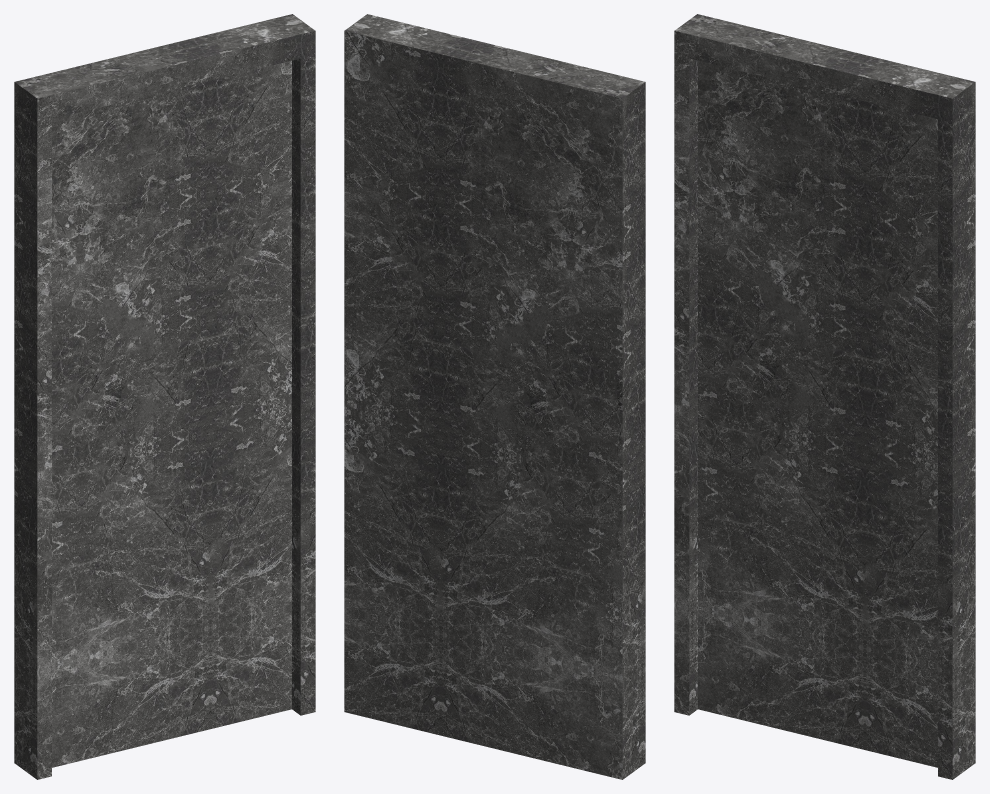
Rendered from door-updated.glb.
3 renders of one model, left to right at view 1: azimuth 30°, elevation 25°; view 2: azimuth 150°, elevation 25°; view 3: azimuth 330°, elevation 25°, orthographic.
Parts seen in each view (by area): view 1: Cube; view 2: Cube; view 3: Cube.
Boxes of the visible parts, x1,y1,x2,y2 form: Cube: (14, 14, 315, 779); Cube: (344, 14, 645, 779); Cube: (674, 14, 975, 779).
Bounding box in the file's own units: 0.91 × 2.13 × 0.1297.
1 material, 1 textured.
